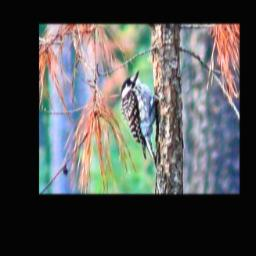Woodpecker: (114, 65, 171, 171)
